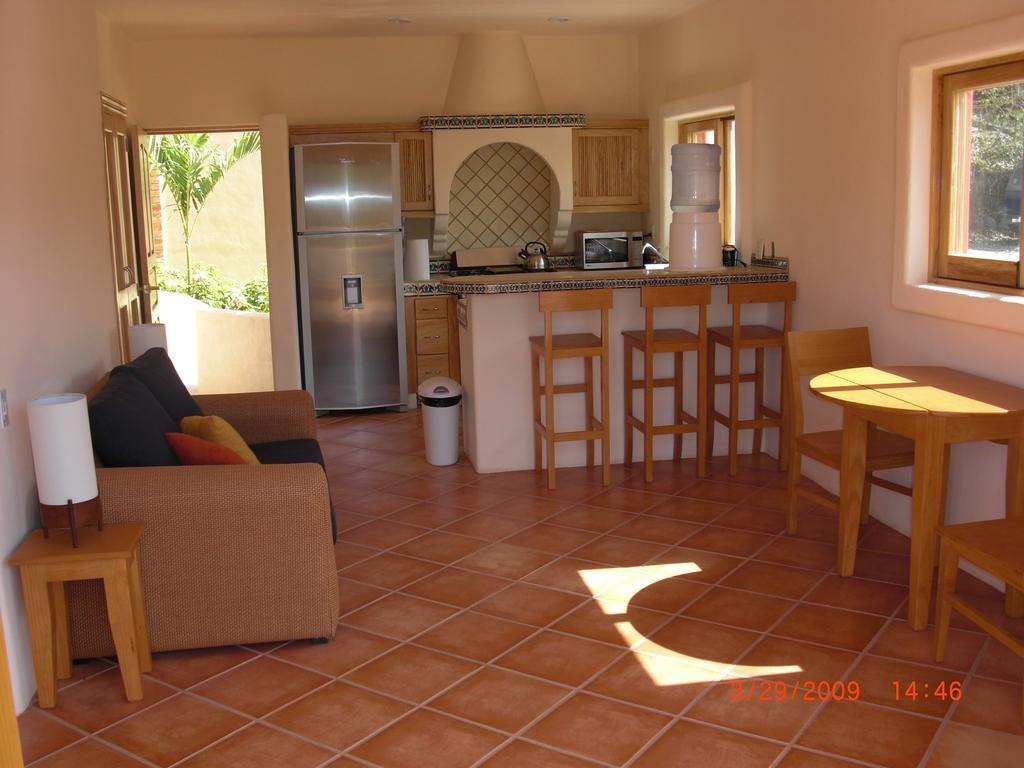door: (103, 109, 143, 319)
